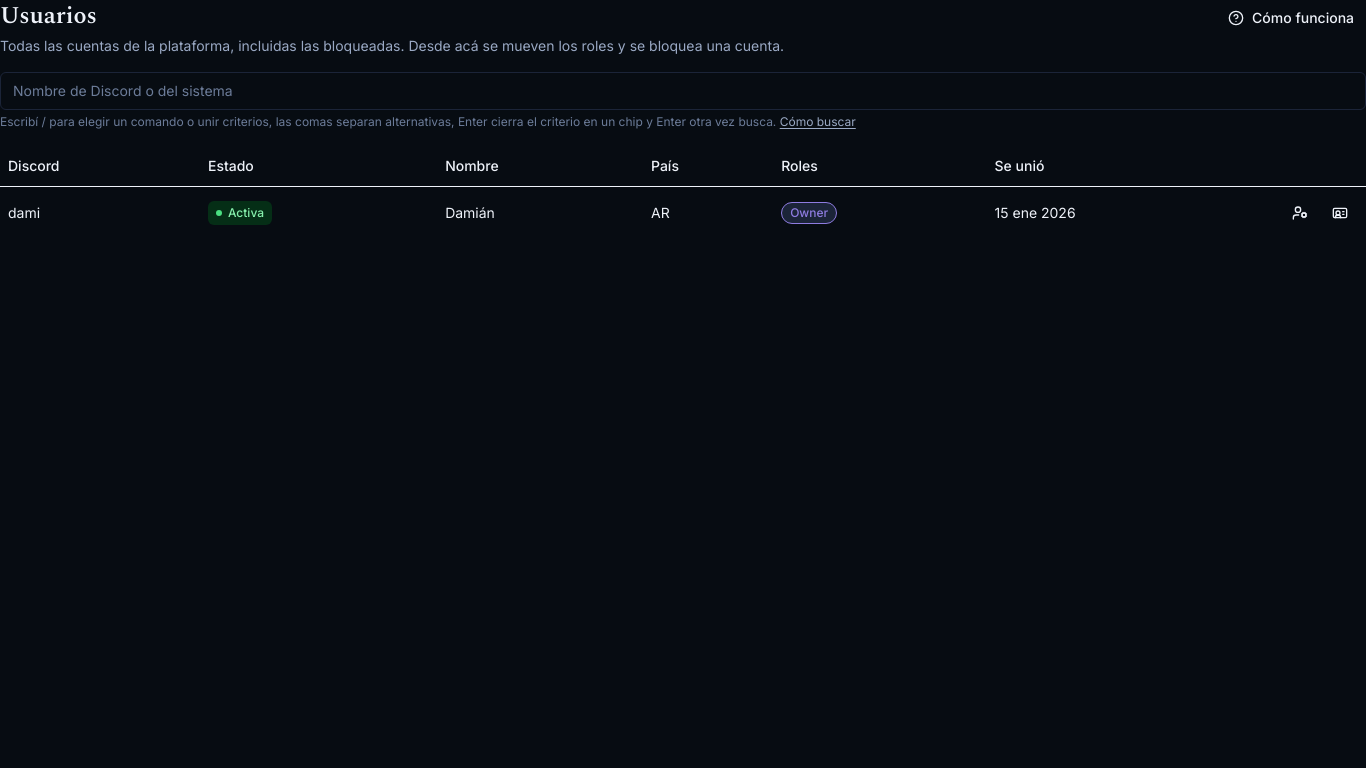
Test case: AdminUsersPage › the owner can take Owner away from an account that holds it
Click the button named "Cambiar roles".
click(1300, 212)  # box [1282,194,1318,230]
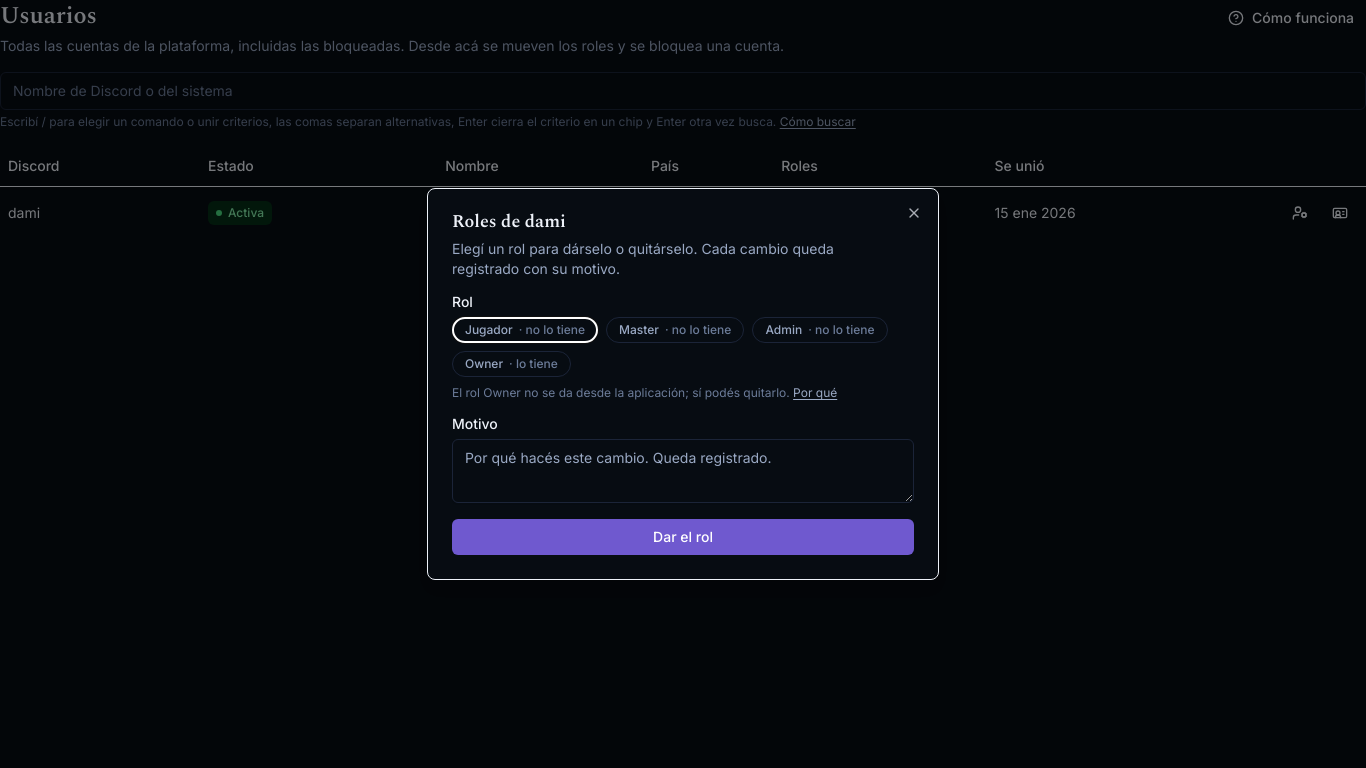
Result: the button "Owner· lo tiene" is shown at [452,351,571,377]
